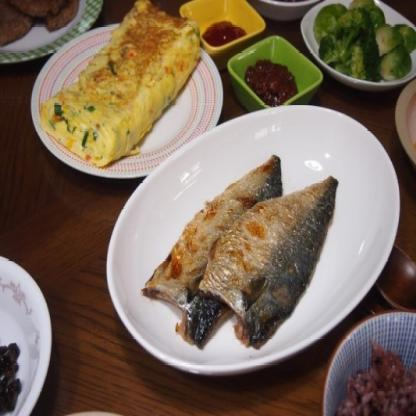Peixe: (132, 149, 343, 352)
